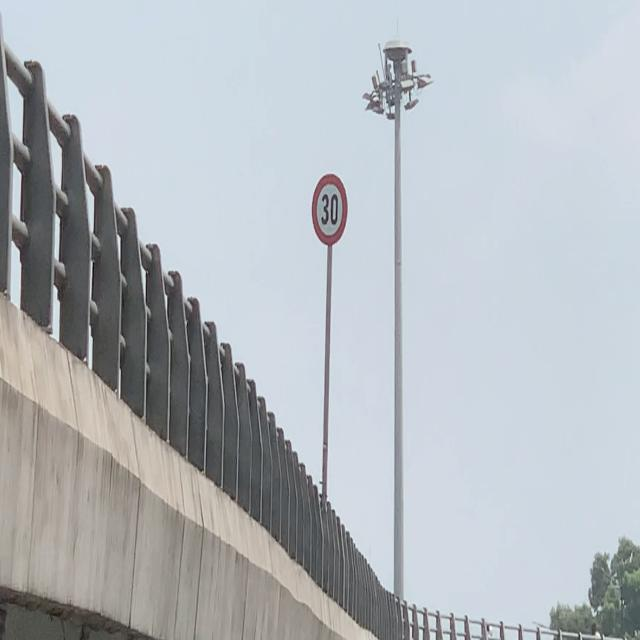Toc do toi da: (309, 170, 352, 250)
